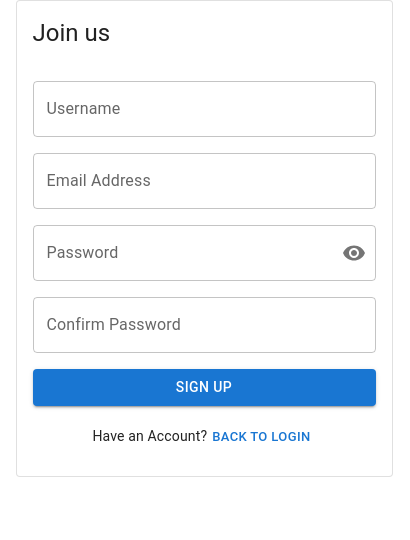
<SignupForm> component testing › Errors out if an aready username or email exists
Type "testingUsername" into the field labelled "Username" at (204, 109), box [32,81,376,137]
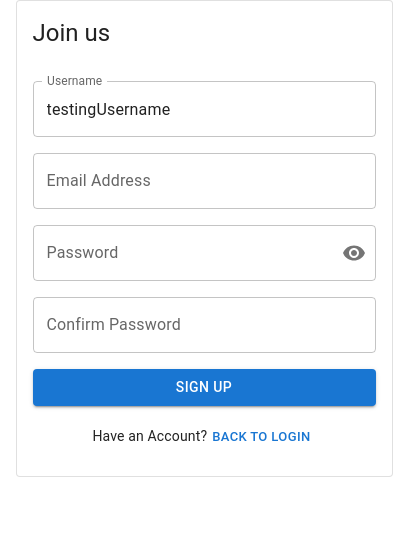
Type "testing@testing.com" into the field labelled "Email Address" at (204, 181), box [32,153,376,209]
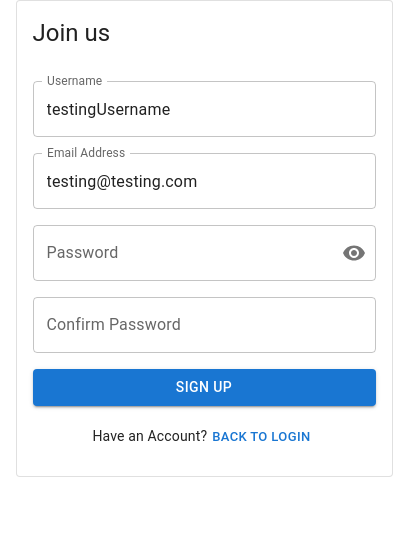
Type "Pass@1234" into the password field with placeholder "Enter Your Password" at (179, 253), box [32,225,326,281]
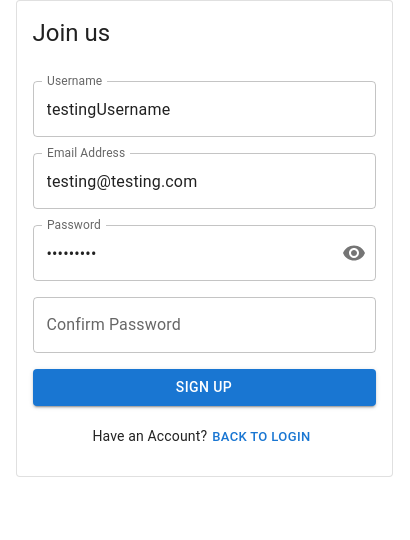
Type "Pass@1234" into the password field with placeholder "confirm your password" at (204, 325), box [32,297,376,353]
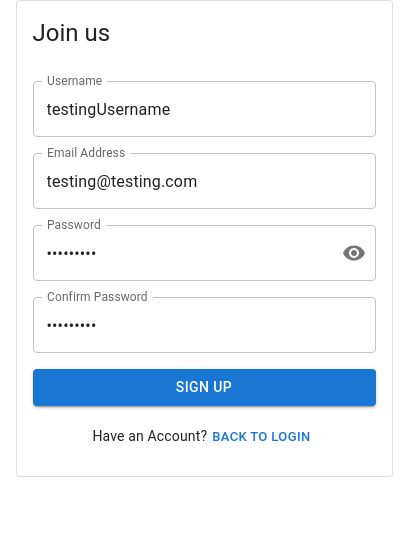
Click the button "Sign Up" at (204, 387), box [32,369,376,406]
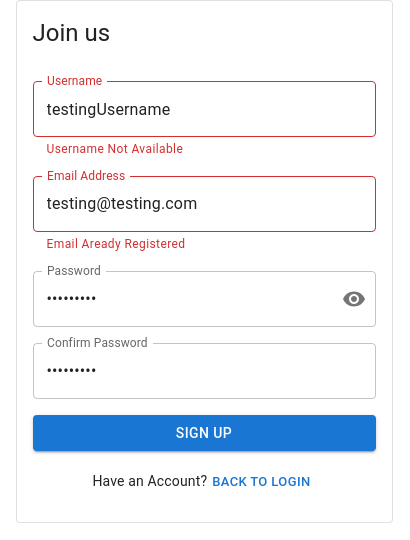
Expected: the text "Username Not Available" is shown, [46,142,183,156]
Expected: the text "Email Aready Registered" is shown, [46,237,186,251]
